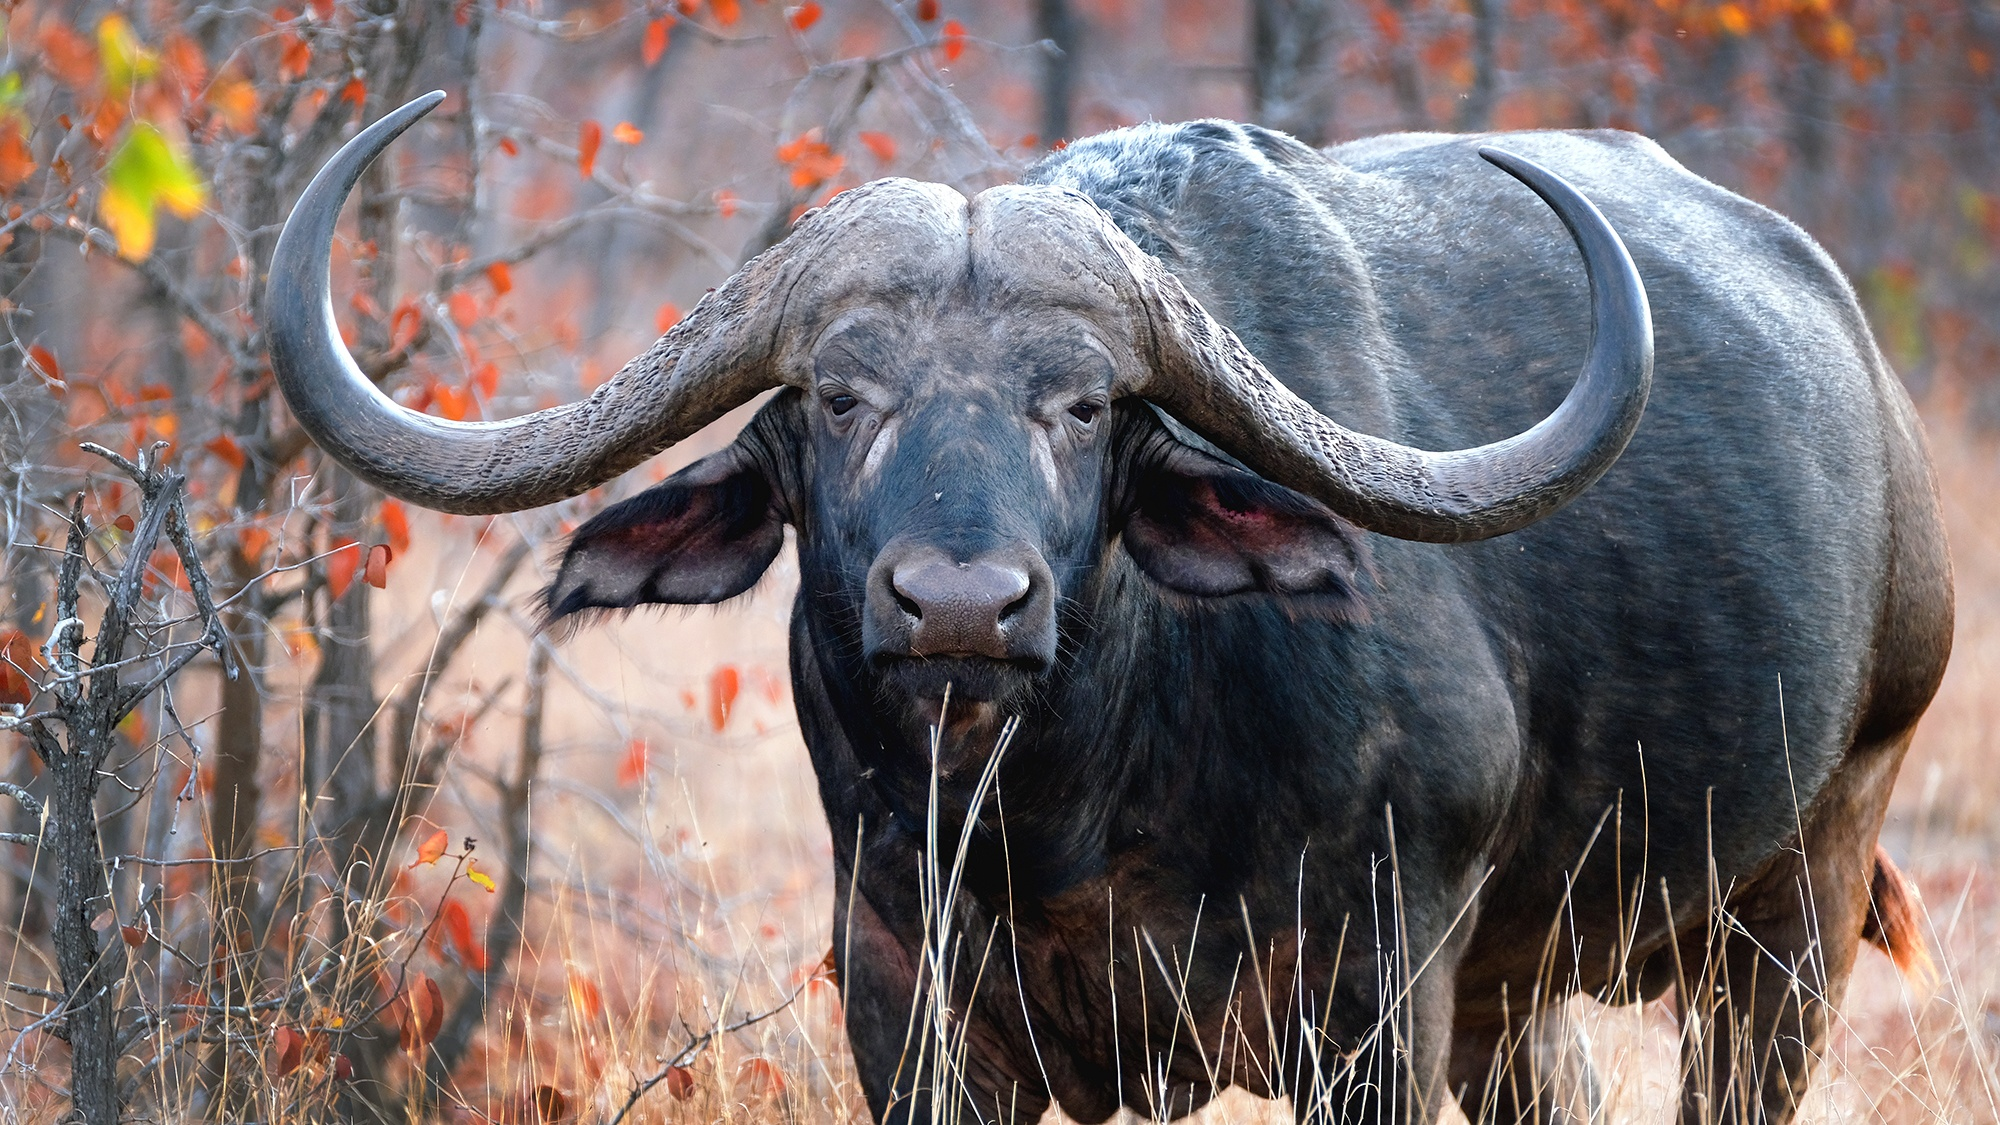buffalo: (255, 87, 1960, 1115)
